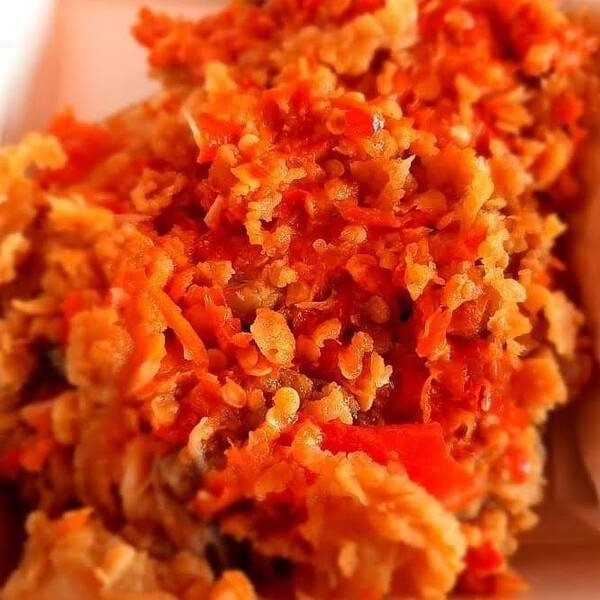ayam_geprek: (41, 39, 574, 586)
